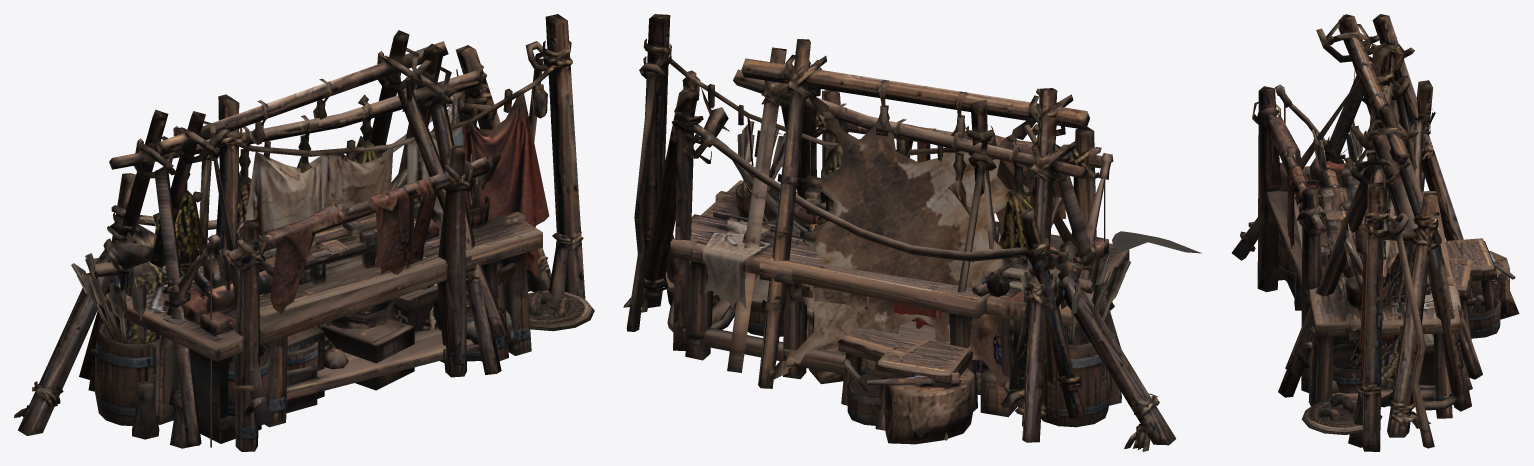
The model's file is kit-camp-crafts.glb.
3 views of the same model, side by side, from view 1: azimuth 30°, elevation 25°; view 2: azimuth 150°, elevation 25°; view 3: azimuth 270°, elevation 25° (orthographic). The views are drawn at different scales.
Parts seen in each view (by area): view 1: crafts_03_leather_bench, crafts_05_fletcher_bench, crafts_02_laundry_line, crafts_06_herb_rack, crafts_01_fishing_net, crafts_04_hide_frame; view 2: crafts_04_hide_frame, crafts_05_fletcher_bench, crafts_01_fishing_net, crafts_06_herb_rack, crafts_03_leather_bench, crafts_02_laundry_line; view 3: crafts_05_fletcher_bench, crafts_01_fishing_net, crafts_03_leather_bench, crafts_04_hide_frame, crafts_02_laundry_line, crafts_06_herb_rack.
Part boxes in pixels (box(x1,y1,x2,y2)): crafts_03_leather_bench: box(106, 145, 517, 451); crafts_05_fletcher_bench: box(71, 147, 542, 447); crafts_02_laundry_line: box(198, 14, 585, 371); crafts_06_herb_rack: box(79, 43, 501, 446); crafts_01_fishing_net: box(14, 45, 594, 435); crafts_04_hide_frame: box(150, 30, 507, 426); crafts_04_hide_frame: box(741, 39, 1114, 444); crafts_05_fletcher_bench: box(670, 121, 1130, 427); crafts_01_fishing_net: box(623, 87, 1176, 451); crafts_06_herb_rack: box(727, 47, 1121, 442); crafts_03_leather_bench: box(747, 90, 1129, 440); crafts_02_laundry_line: box(626, 14, 1201, 342); crafts_05_fletcher_bench: box(1275, 84, 1473, 418); crafts_01_fishing_net: box(1278, 80, 1471, 437); crafts_03_leather_bench: box(1252, 86, 1496, 393); crafts_04_hide_frame: box(1232, 14, 1519, 379); crafts_02_laundry_line: box(1348, 42, 1434, 451); crafts_06_herb_rack: box(1278, 14, 1472, 397).
Bounding box in the file's own units: 4.1 × 2.2 × 2.06.
Materials: 1 (1 with a texture image).
